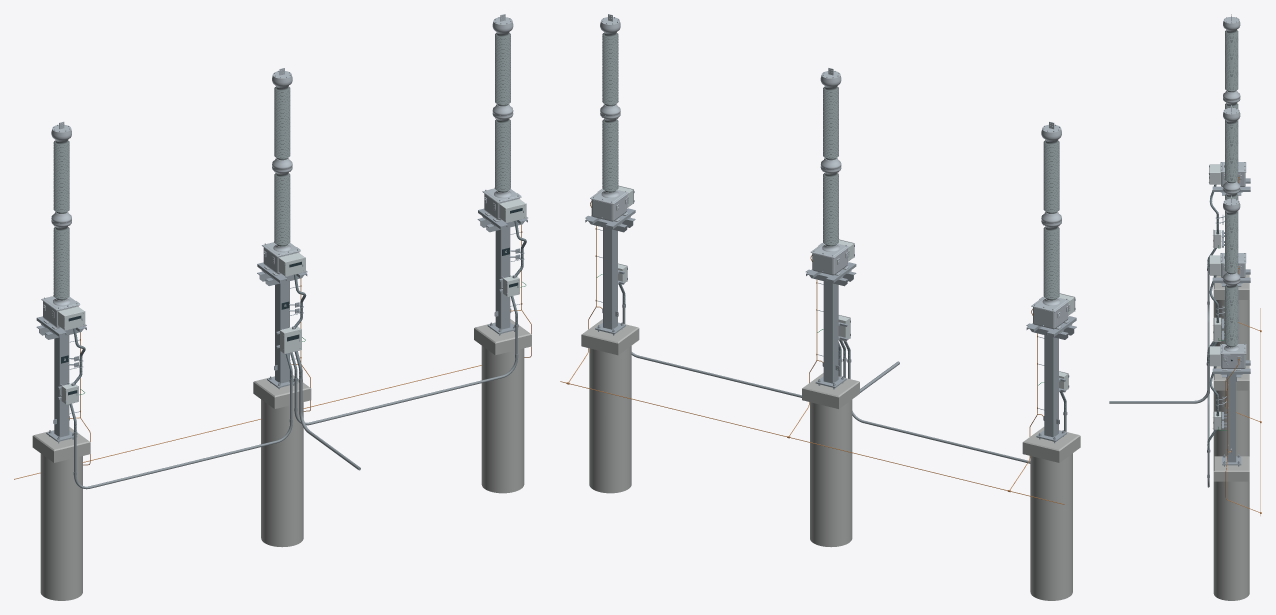
The model's file is cvt-square-stand-assembled.glb.
The picture shows the model from 3 angles, left to right: view 1: azimuth 30°, elevation 25°; view 2: azimuth 150°, elevation 25°; view 3: azimuth 270°, elevation 25°; orthographic projection. The views are drawn at different scales.
Visible parts, largest first — view 1: Object100504, Object100883, Object100143, Object100557, Object100936, Object101073, Object100326, Object100325, Object101074, Object101082, Object100703, Object100196 (+5 smaller); view 2: Object100504, Object100883, Object100143, Object100196, Object100936, Object100557, Object101082, Object100703, Object100331, Object100695, Object100694, Object101073 (+8 smaller); view 3: Object100504, Object100143, Object100557, Object100883, Object101074, Object100326, Object100694, Object100695, Object100703, Object100331, Object100690, Object101082 (+8 smaller).
Boxes of the visible parts, x1,y1,x2,y2 form: Object100504: [481, 346, 524, 493]; Object100883: [40, 453, 82, 600]; Object100143: [261, 399, 303, 547]; Object100557: [495, 227, 510, 329]; Object100936: [54, 335, 69, 437]; Object101073: [53, 227, 69, 300]; Object100326: [274, 86, 290, 160]; Object100325: [274, 173, 290, 246]; Object101074: [53, 140, 69, 213]; Object101082: [32, 427, 90, 462]; Object100703: [474, 319, 531, 355]; Object100196: [275, 281, 289, 383]; Object100504: [589, 346, 631, 493]; Object100883: [1030, 453, 1072, 600]; Object100143: [810, 399, 852, 547]; Object100196: [823, 281, 838, 383]; Object100936: [1044, 335, 1058, 437]; Object100557: [603, 227, 617, 329]; Object101082: [1022, 427, 1080, 462]; Object100703: [581, 319, 639, 355]; Object100331: [802, 373, 859, 408]; Object100695: [602, 33, 618, 106]; Object100694: [602, 119, 618, 192]; Object101073: [1043, 227, 1059, 300]; Object100504: [1213, 481, 1249, 600]; Object100143: [1213, 390, 1249, 456]; Object100557: [1227, 374, 1236, 462]; Object100883: [1213, 300, 1249, 360]; Object101074: [1225, 30, 1238, 92]; Object100326: [1225, 121, 1238, 183]; Object100694: [1225, 285, 1238, 347]; Object100695: [1225, 212, 1238, 274]; Object100703: [1213, 456, 1249, 481]; Object100331: [1213, 365, 1249, 390]; Object100690: [1221, 344, 1245, 368]; Object101082: [1213, 274, 1249, 299].
Size of the model in its own units: 10.45 by 9.3 by 3.24.
